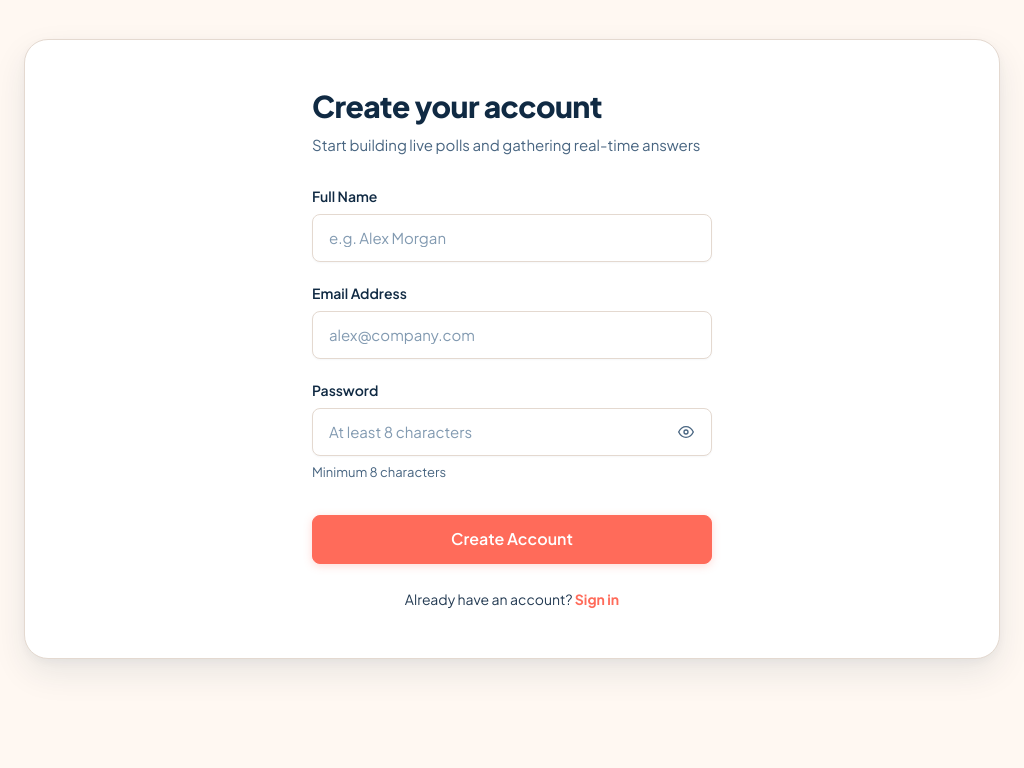
Test: Authentication & Protected Routes › validates password length on RegisterPage
The width and height of the screenshot is (1024, 768).
Type "Alice Smith" into the field labelled "Full Name". click: point(512, 238)
box: x1=312 y1=214 x2=712 y2=262
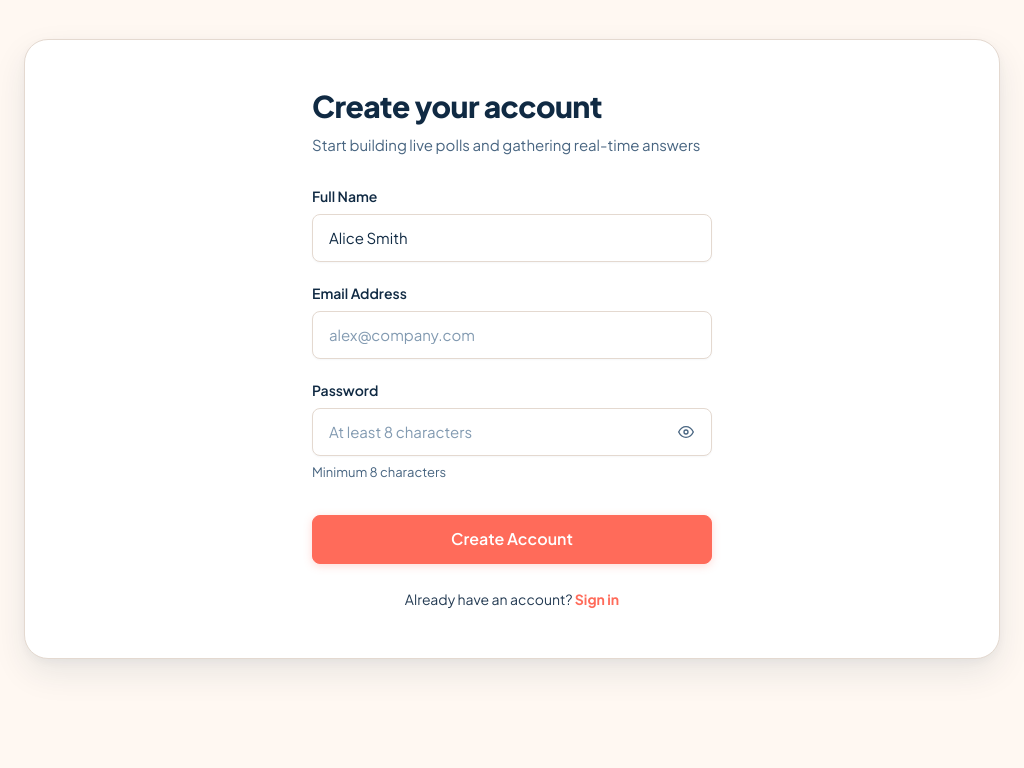
Type "alice@example.com" into the field labelled "Email Address". click: point(512, 335)
box: x1=312 y1=311 x2=712 y2=359
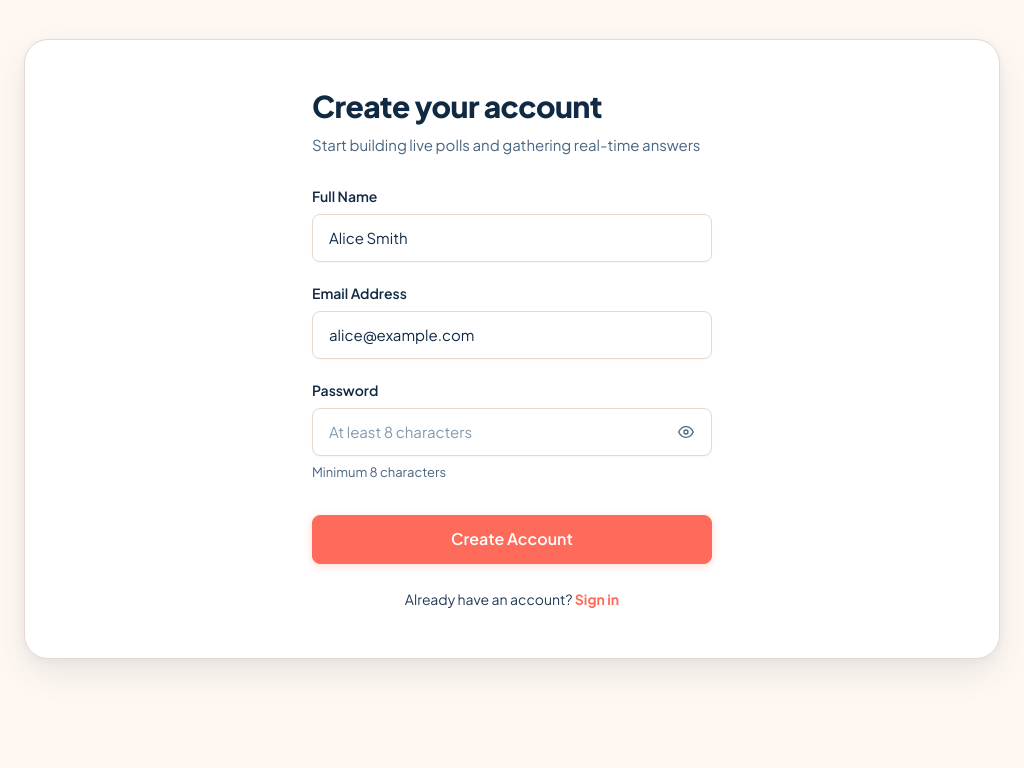
Type "short" into the password field labelled "Password". click: point(512, 432)
box: x1=312 y1=408 x2=712 y2=456
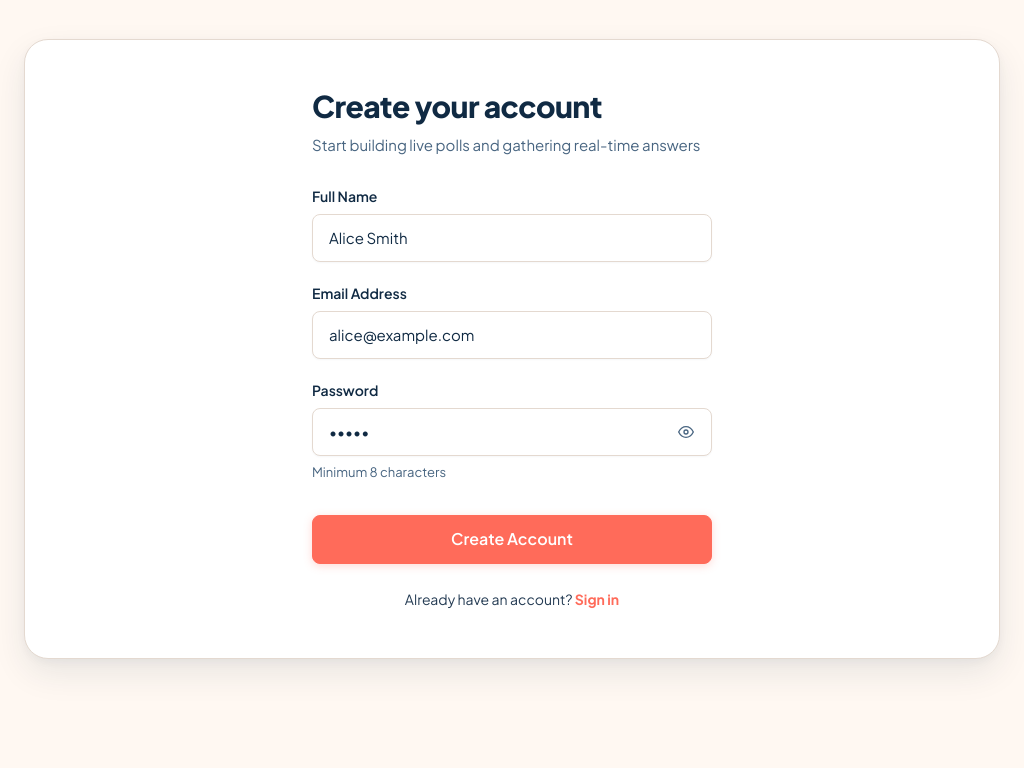
Click the button "Create Account". click: point(512, 539)
box: x1=312 y1=515 x2=712 y2=564
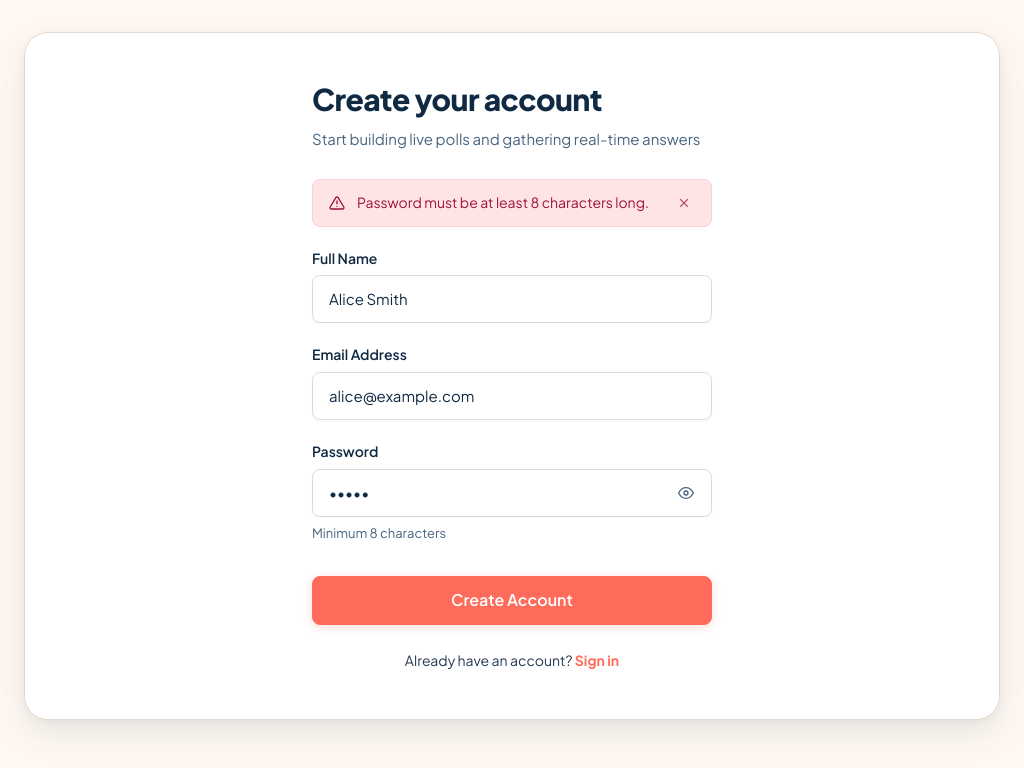
Check: the text "Password must be at least 8 characters long." is shown, box x1=357 y1=193 x2=661 y2=212
